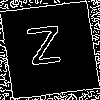Z: (25, 25, 66, 75)
